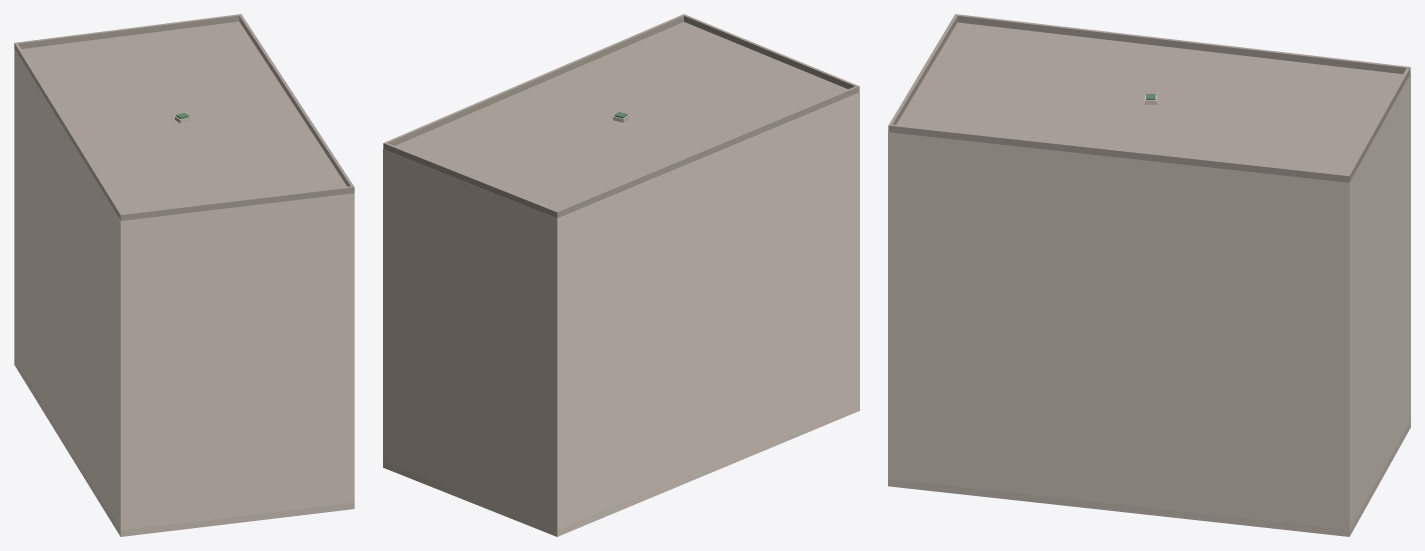
File: cop_misto_loja_terrea_03__way_134013760.fbx
3 views of the same model, side by side, from view 1: azimuth 30°, elevation 25°; view 2: azimuth 150°, elevation 25°; view 3: azimuth 270°, elevation 25° (orthographic). The views are drawn at different scales.
Parts seen in each view (by area): view 1: cop_misto_loja_terrea_03__way_134013760_wall, cop_misto_loja_terrea_03__way_134013760_roof, cop_misto_loja_terrea_03__way_134013760_stone; view 2: cop_misto_loja_terrea_03__way_134013760_wall, cop_misto_loja_terrea_03__way_134013760_roof, cop_misto_loja_terrea_03__way_134013760_stone; view 3: cop_misto_loja_terrea_03__way_134013760_wall, cop_misto_loja_terrea_03__way_134013760_roof, cop_misto_loja_terrea_03__way_134013760_stone.
Boxes of the visible parts, <box> form: cop_misto_loja_terrea_03__way_134013760_wall: <box>14,49,354,530</box>; cop_misto_loja_terrea_03__way_134013760_roof: <box>14,14,354,220</box>; cop_misto_loja_terrea_03__way_134013760_stone: <box>14,116,354,536</box>; cop_misto_loja_terrea_03__way_134013760_wall: <box>383,92,859,536</box>; cop_misto_loja_terrea_03__way_134013760_roof: <box>383,14,859,218</box>; cop_misto_loja_terrea_03__way_134013760_stone: <box>383,115,859,536</box>; cop_misto_loja_terrea_03__way_134013760_wall: <box>888,74,1410,536</box>; cop_misto_loja_terrea_03__way_134013760_roof: <box>888,14,1410,182</box>; cop_misto_loja_terrea_03__way_134013760_stone: <box>888,95,1410,536</box>.
Bounding box in the file's own units: 3542 × 3669 × 4818.
